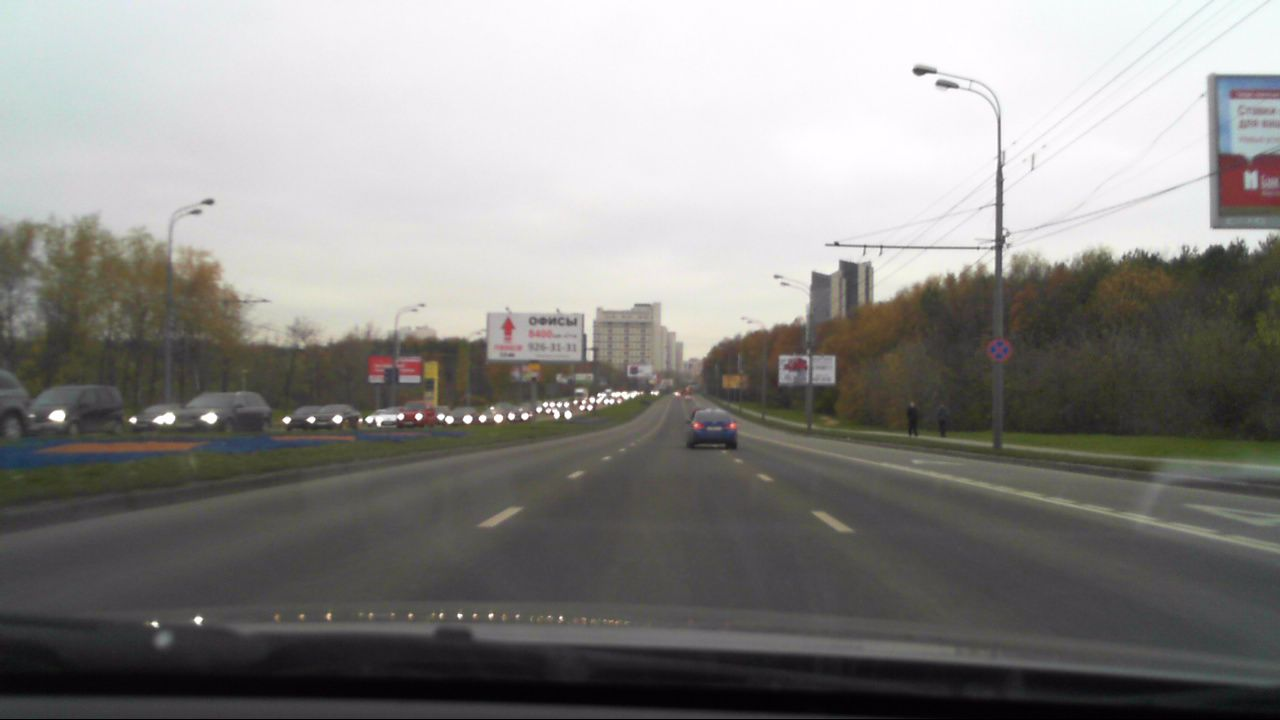No Parking: (986, 337, 1011, 362)
